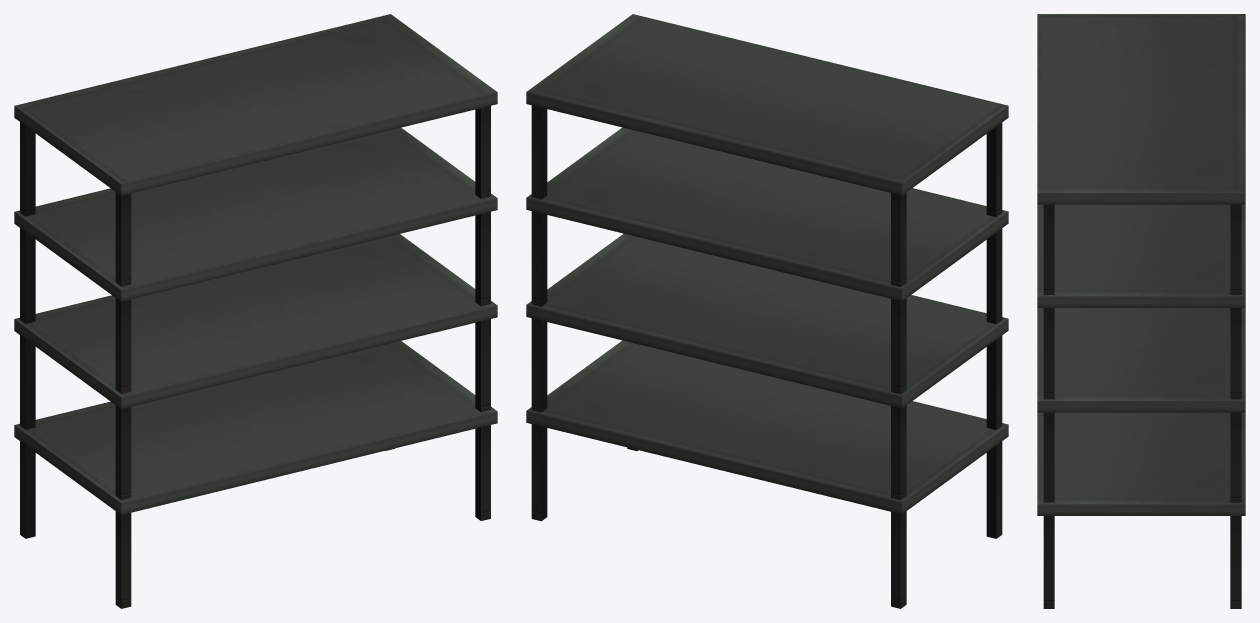
The model's file is Stand1.fbx.
3 views of the same model, side by side, from view 1: azimuth 30°, elevation 25°; view 2: azimuth 150°, elevation 25°; view 3: azimuth 270°, elevation 25° (orthographic). The views are drawn at different scales.
Visible parts, largest first — view 1: stand1; view 2: stand1; view 3: stand1.
Boxes of the visible parts, box(x1,y1,x2,y2) form: stand1: box(14, 14, 497, 608); stand1: box(526, 14, 1008, 608); stand1: box(1037, 14, 1245, 608).
Size of the model in its own units: 125 by 136 by 61.56.
